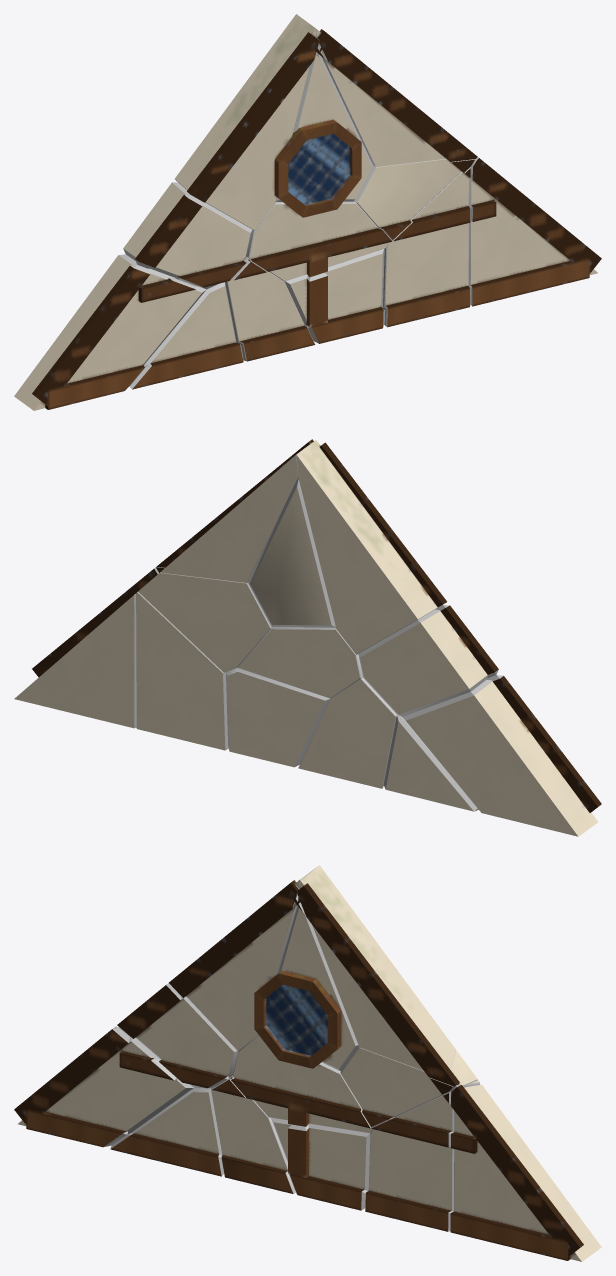
File: Kit_House_Gable_Fractured.fbx
3 views of the same model, one above another, from view 1: azimuth 30°, elevation 25°; view 2: azimuth 150°, elevation 25°; view 3: azimuth 330°, elevation 25° (orthographic).
Visible parts, largest first — view 1: Kit_House_Gable_frag_02, Kit_House_Gable_frag_11, Kit_House_Gable_frag_06, Kit_House_Gable_frag_07, Kit_House_Gable_frag_09, Kit_House_Gable_frag_12, Kit_House_Gable_frag_01, Kit_House_Gable_frag_05, Kit_House_Gable_frag_04, Kit_House_Gable_frag_10, Kit_House_Gable_frag_08, Kit_House_Gable_frag_03; view 2: Kit_House_Gable_frag_11, Kit_House_Gable_frag_02, Kit_House_Gable_frag_06, Kit_House_Gable_frag_07, Kit_House_Gable_frag_09, Kit_House_Gable_frag_03, Kit_House_Gable_frag_12, Kit_House_Gable_frag_01, Kit_House_Gable_frag_04, Kit_House_Gable_frag_08, Kit_House_Gable_frag_05, Kit_House_Gable_frag_10; view 3: Kit_House_Gable_frag_06, Kit_House_Gable_frag_12, Kit_House_Gable_frag_11, Kit_House_Gable_frag_02, Kit_House_Gable_frag_07, Kit_House_Gable_frag_01, Kit_House_Gable_frag_05, Kit_House_Gable_frag_09, Kit_House_Gable_frag_04, Kit_House_Gable_frag_08, Kit_House_Gable_frag_10, Kit_House_Gable_frag_03.
Part boxes in pixels (x1,y1,x2,y2): Kit_House_Gable_frag_02: (175, 14, 318, 230); Kit_House_Gable_frag_11: (14, 254, 206, 410); Kit_House_Gable_frag_06: (469, 157, 601, 306); Kit_House_Gable_frag_07: (383, 167, 470, 327); Kit_House_Gable_frag_09: (123, 182, 252, 289); Kit_House_Gable_frag_12: (296, 14, 477, 166); Kit_House_Gable_frag_01: (276, 44, 372, 217); Kit_House_Gable_frag_05: (247, 198, 392, 281); Kit_House_Gable_frag_04: (285, 248, 385, 343); Kit_House_Gable_frag_10: (129, 282, 243, 389); Kit_House_Gable_frag_08: (225, 257, 315, 361); Kit_House_Gable_frag_03: (354, 158, 475, 240); Kit_House_Gable_frag_11: (402, 675, 601, 836); Kit_House_Gable_frag_02: (296, 440, 446, 654); Kit_House_Gable_frag_06: (14, 567, 158, 728); Kit_House_Gable_frag_07: (136, 592, 228, 750); Kit_House_Gable_frag_09: (358, 605, 498, 716); Kit_House_Gable_frag_03: (138, 567, 271, 672); Kit_House_Gable_frag_12: (156, 439, 313, 582); Kit_House_Gable_frag_01: (248, 477, 335, 627); Kit_House_Gable_frag_04: (226, 667, 330, 767); Kit_House_Gable_frag_08: (298, 678, 396, 788); Kit_House_Gable_frag_05: (237, 627, 363, 698); Kit_House_Gable_frag_10: (383, 714, 478, 811); Kit_House_Gable_frag_06: (450, 1084, 601, 1261); Kit_House_Gable_frag_12: (297, 865, 459, 1086); Kit_House_Gable_frag_11: (14, 1026, 193, 1147); Kit_House_Gable_frag_02: (169, 867, 316, 1051); Kit_House_Gable_frag_07: (365, 1080, 479, 1231); Kit_House_Gable_frag_01: (254, 895, 358, 1071); Kit_House_Gable_frag_05: (231, 1035, 372, 1133); Kit_House_Gable_frag_09: (117, 983, 238, 1088); Kit_House_Gable_frag_04: (271, 1117, 370, 1210); Kit_House_Gable_frag_08: (211, 1076, 295, 1193); Kit_House_Gable_frag_10: (110, 1088, 223, 1176); Kit_House_Gable_frag_03: (340, 1047, 477, 1127).
Size of what is drawn, in the model's own units: 4.91 by 2.6 by 0.3606.
